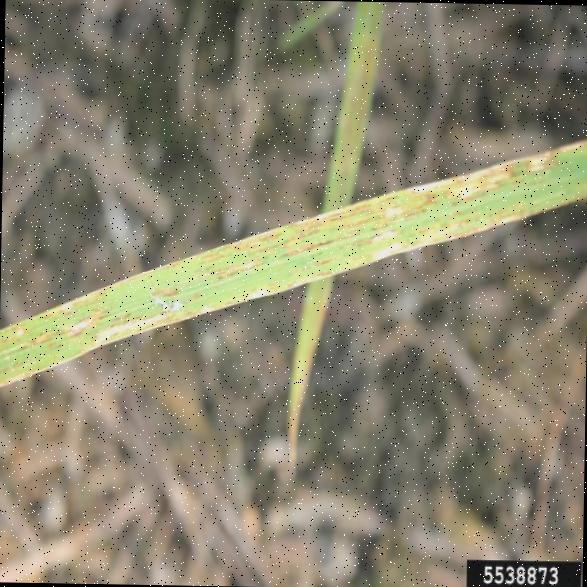Bacteria_Leaf_Blight: (87, 136, 554, 332)
